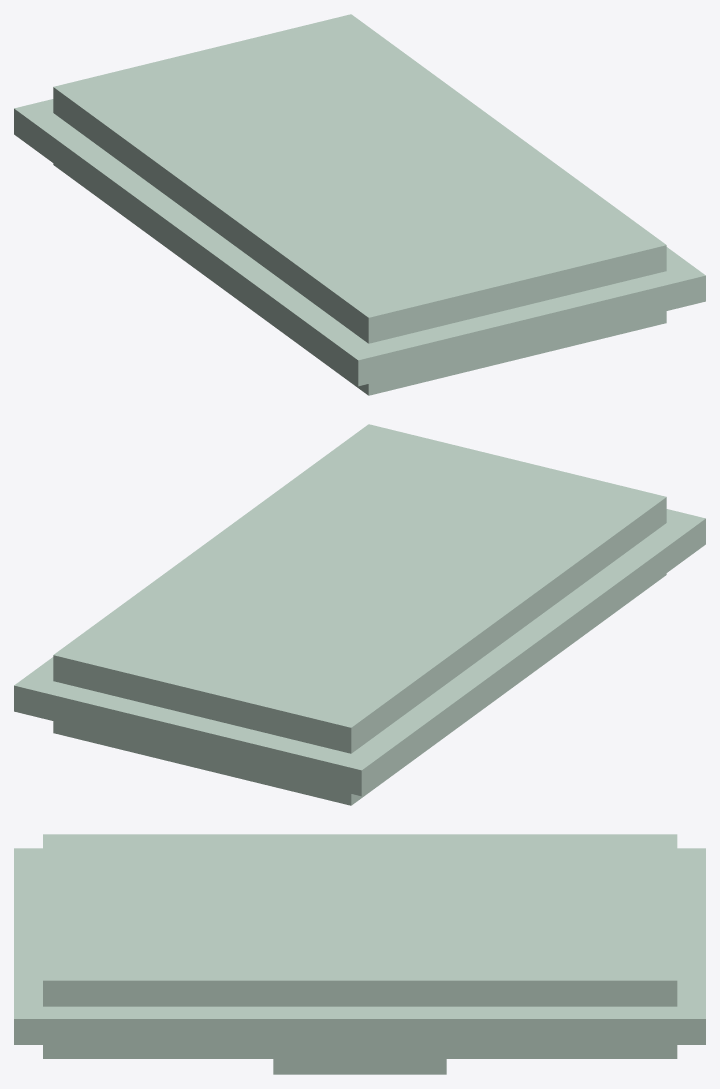
The model's file is Smol-Platform-2.obj.
3 views of the same model, one above another, from view 1: azimuth 30°, elevation 25°; view 2: azimuth 150°, elevation 25°; view 3: azimuth 270°, elevation 25° (orthographic).
Bounding box in the file's own units: 1.4 × 0.5 × 2.4.
1 material, 1 textured.
